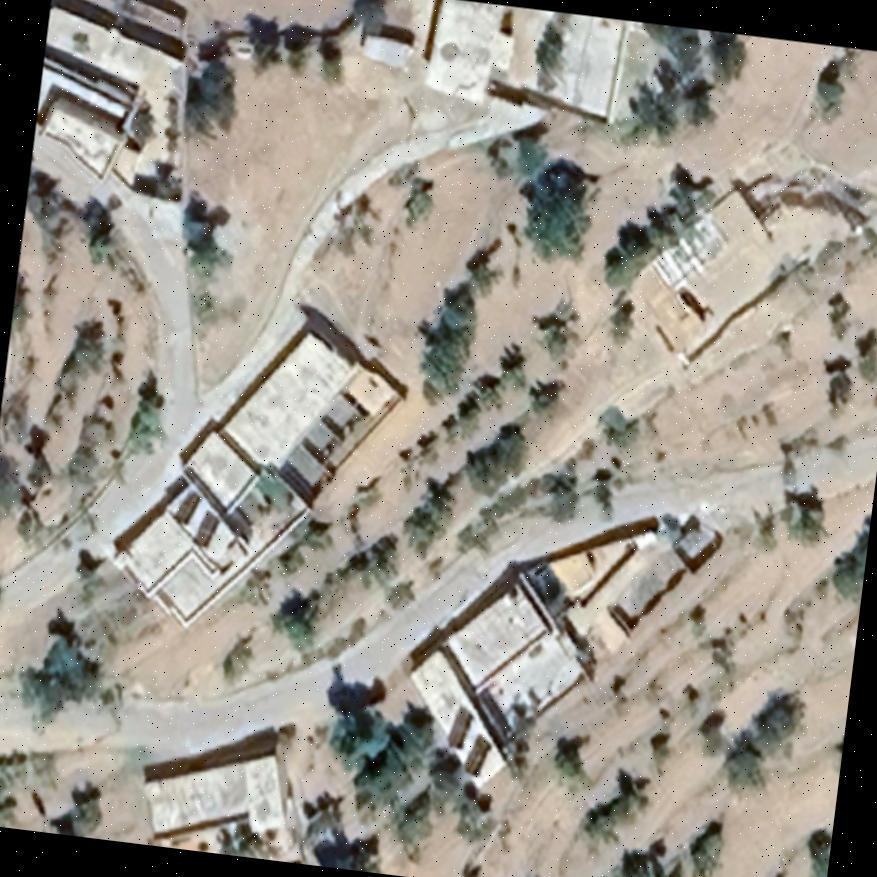Solarpanel: (458, 728, 494, 780), (186, 503, 223, 553), (442, 700, 474, 753), (168, 483, 204, 530)
